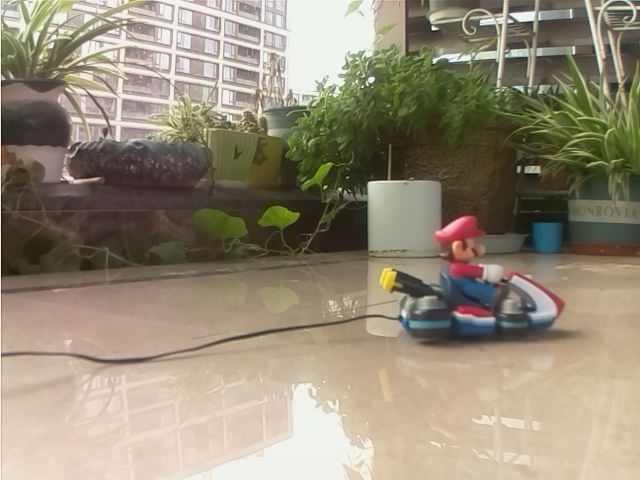mario: (378, 213, 574, 351)
